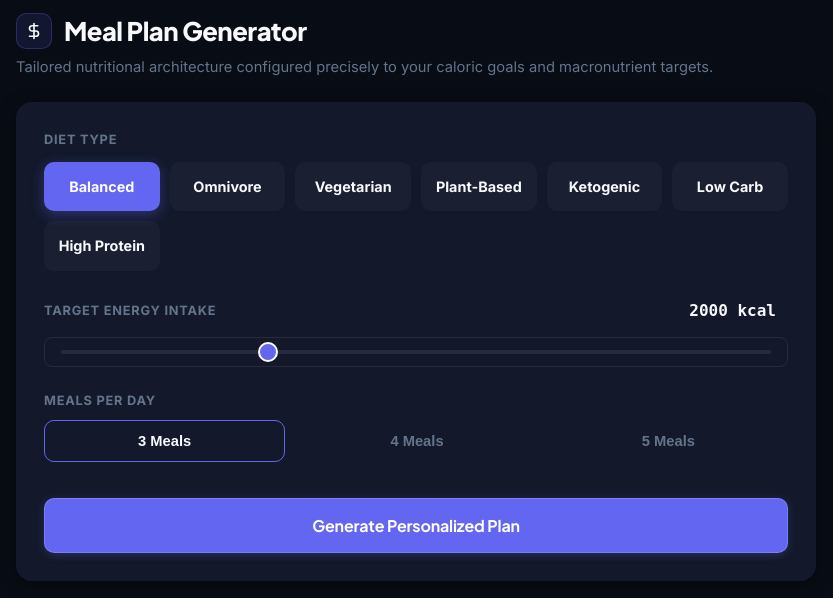
MealPlanner Component › generates and displays meal plan upon clicking generate button
This screenshot has width=833, height=598.
Click the button "Generate Personalized Plan" at (416, 526), box [44,498,788,553]
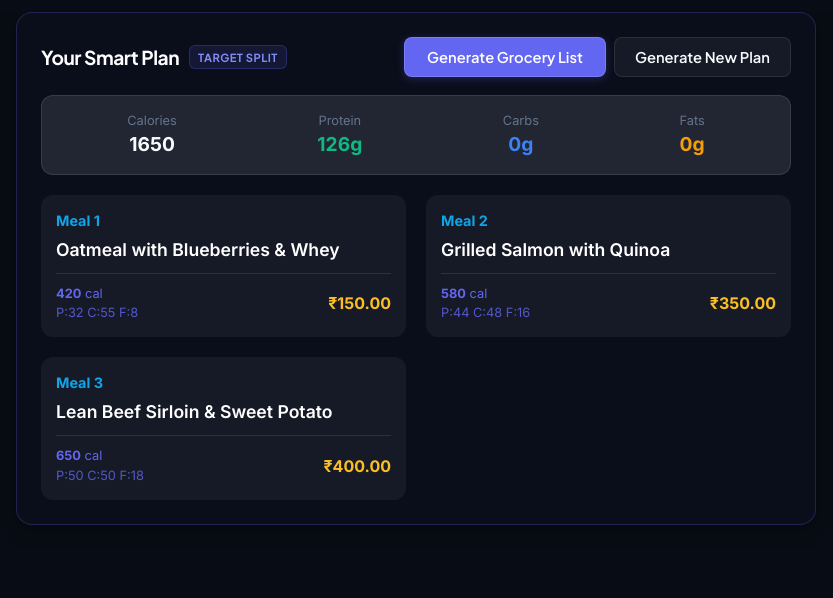
Now the text "Oatmeal with Blueberries & Whey" is shown, box [56,239,340,260]
Now the text "Grilled Salmon with Quinoa" is shown, box [441,239,670,260]
Now the text "Lean Beef Sirloin & Sweet Potato" is shown, box [56,401,332,422]
